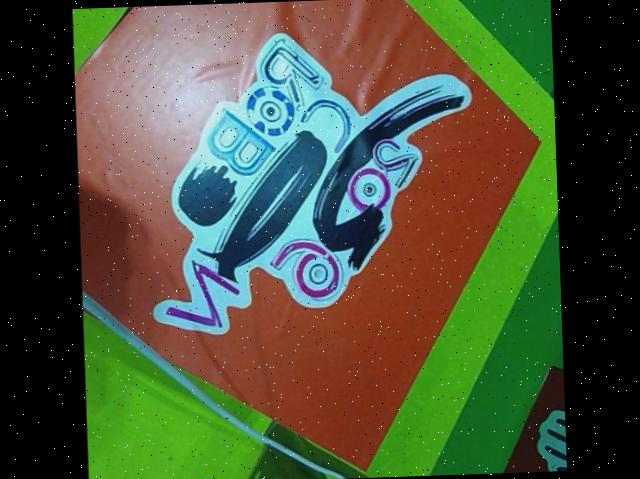R1: (72, 0, 552, 479)
